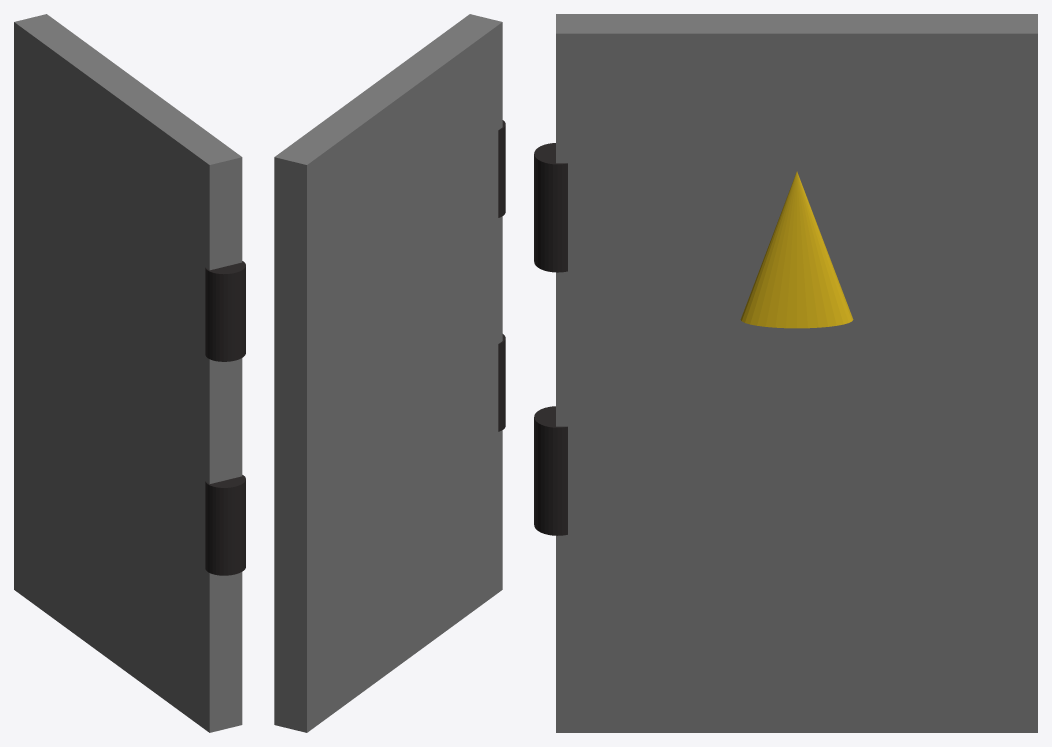
Rendered from Fuse Door.fbx.
The picture shows the model from 3 angles, left to right: view 1: azimuth 30°, elevation 25°; view 2: azimuth 150°, elevation 25°; view 3: azimuth 270°, elevation 25°; orthographic projection. The views are drawn at different scales.
Parts seen in each view (by area): view 1: Cube, Cylinder.001, Cylinder; view 2: Cube, Cylinder, Cylinder.001; view 3: Cube, Cone, Cylinder.001, Cylinder.
Boxes of the visible parts, <box> form: Cube: <box>14,14,242,732</box>; Cylinder.001: <box>205,475,245,575</box>; Cylinder: <box>205,261,245,361</box>; Cube: <box>274,14,502,732</box>; Cylinder: <box>498,120,505,217</box>; Cylinder.001: <box>498,334,505,431</box>; Cube: <box>556,14,1037,732</box>; Cone: <box>740,171,853,328</box>; Cylinder.001: <box>534,406,567,535</box>; Cylinder: <box>534,143,567,272</box>.
Size of the model in its own units: 30.77 by 336 by 220.
